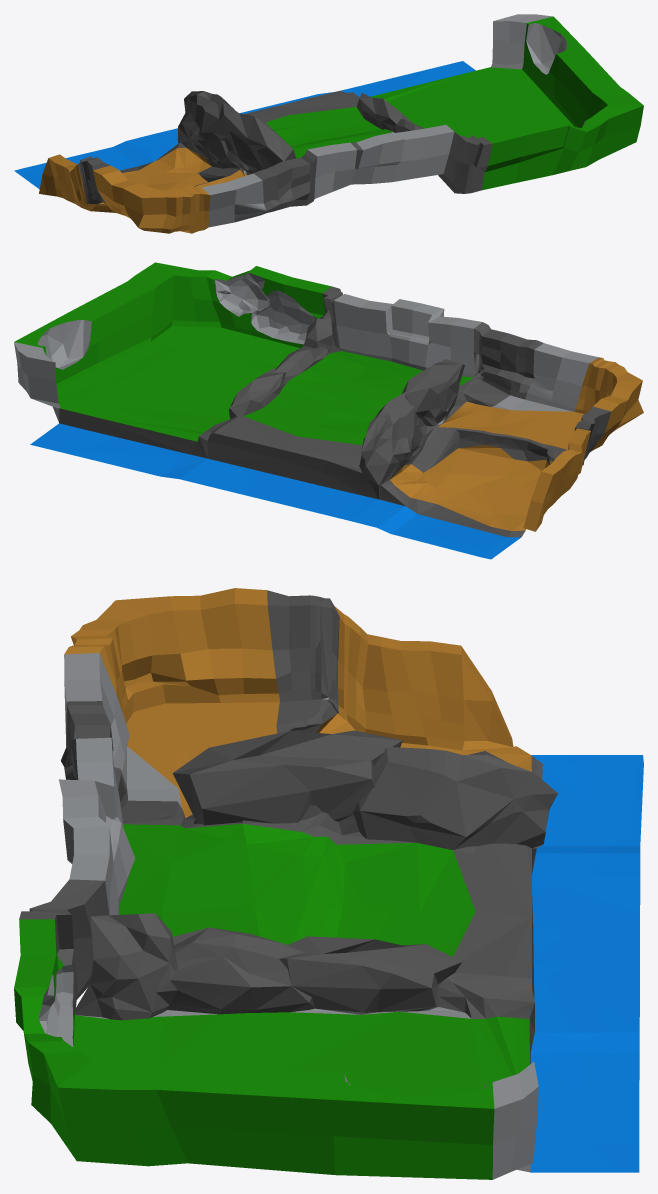
Rendered from WIL_FirstLevel_ Border HalfDone.fbx.
3 views of the same model, one above another, from view 1: azimuth 30°, elevation 25°; view 2: azimuth 150°, elevation 25°; view 3: azimuth 270°, elevation 25° (orthographic). The views are drawn at different scales.
Visible parts, largest first — view 1: Landscape; view 2: Landscape; view 3: Landscape.
Part boxes in pixels (<box>): Landscape: <box>14,14,643,233</box>; Landscape: <box>14,262,643,559</box>; Landscape: <box>14,588,643,1179</box>.
Bounding box in the file's own units: 74265 × 11633 × 40546.
